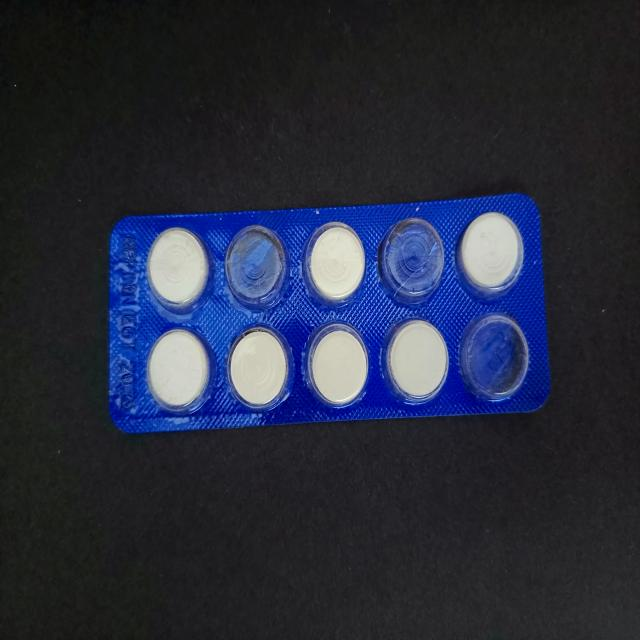defect: (456, 308, 532, 405), (376, 214, 447, 310), (224, 223, 292, 314)
